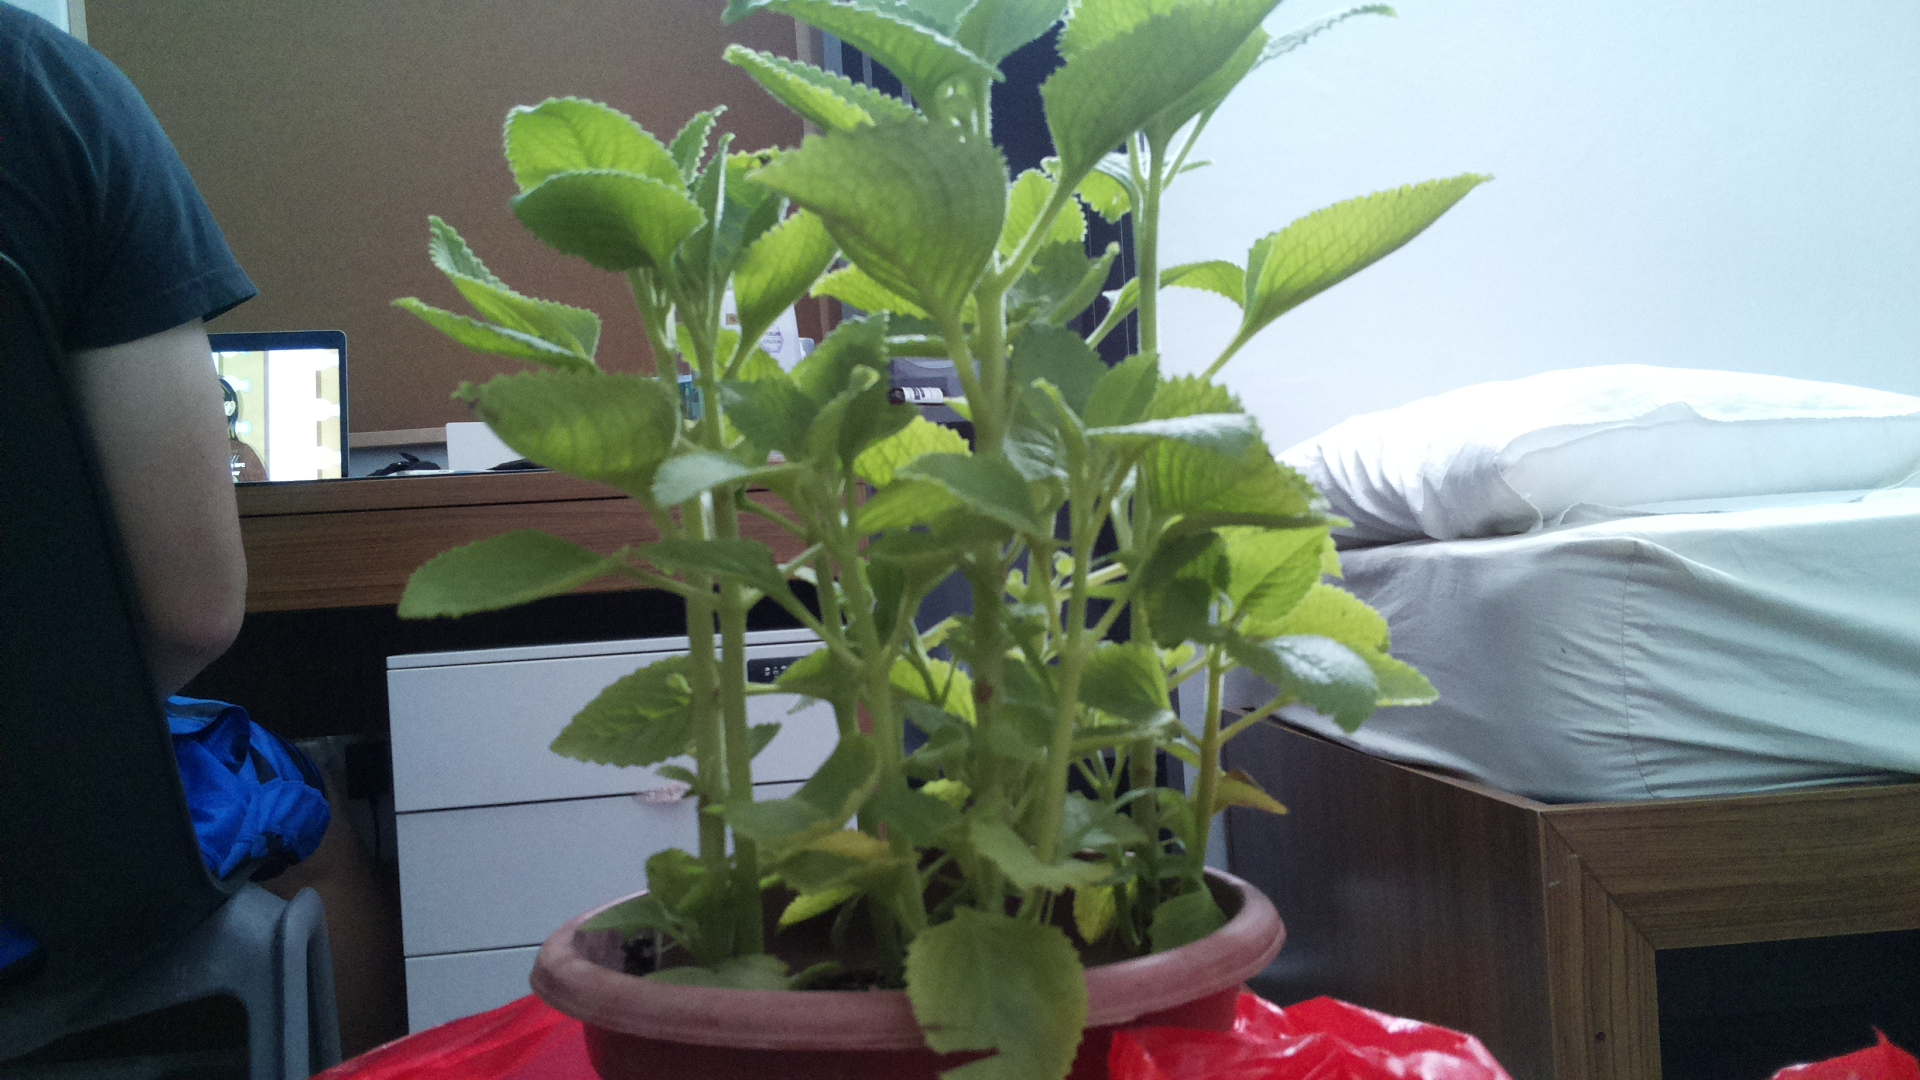leaf: (725, 109, 1015, 347), (1225, 146, 1489, 330), (1043, 1, 1279, 195), (901, 913, 1131, 1080), (462, 365, 692, 501), (400, 516, 632, 638), (516, 170, 727, 298), (415, 211, 615, 343), (549, 650, 740, 774), (717, 717, 884, 847), (1229, 630, 1396, 746), (505, 87, 683, 195), (848, 451, 1040, 549), (1093, 404, 1267, 473), (1216, 524, 1345, 613)
